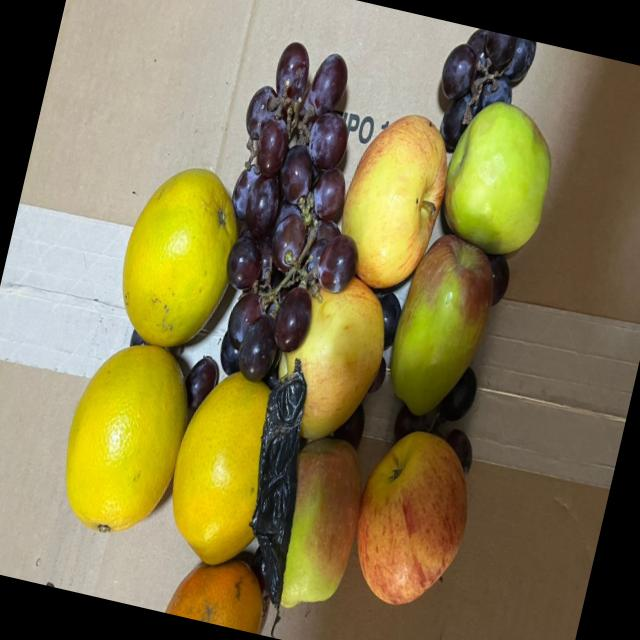bolsa_negra: (222, 366, 332, 604)
